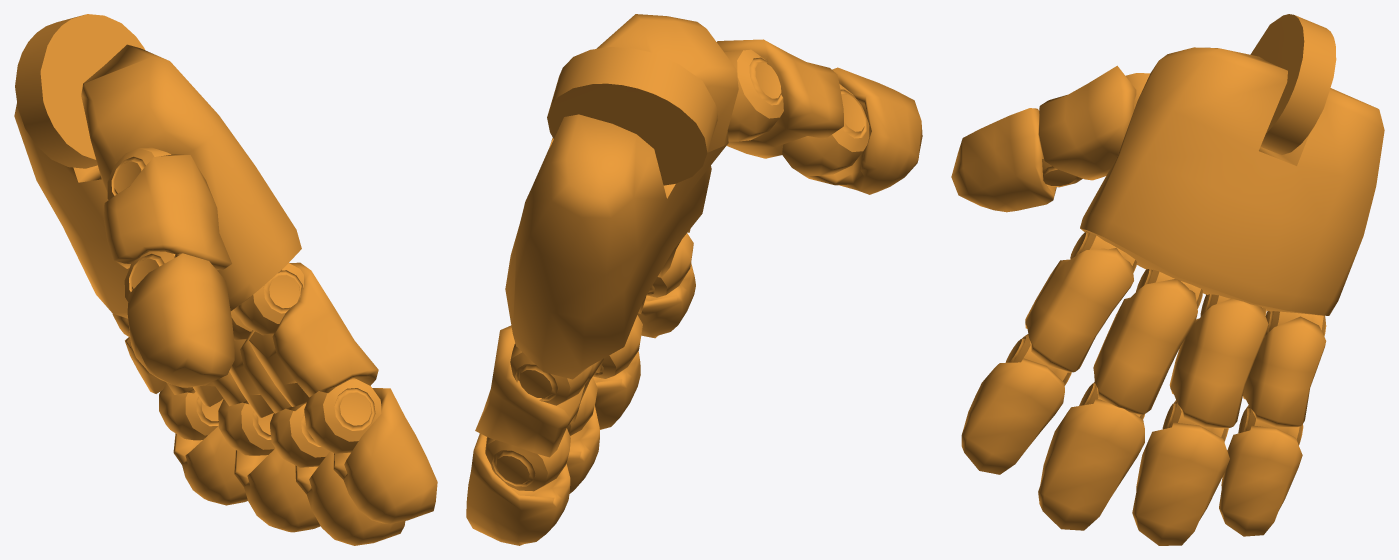
Rendered from handL.fbx.
3 renders of one model, left to right at view 1: azimuth 30°, elevation 25°; view 2: azimuth 150°, elevation 25°; view 3: azimuth 270°, elevation 25°, orthographic. The views are drawn at different scales.
Visible parts, largest first — view 1: matte_0.007, matte_22, matte_12, matte_21, matte_11, matte_42, matte_32, matte_52, matte_31, matte_41, matte_51; view 2: matte_0.007, matte_11, matte_12, matte_52, matte_51, matte_22, matte_32, matte_42; view 3: matte_0.007, matte_32, matte_31, matte_42, matte_21, matte_41, matte_22, matte_12, matte_11, matte_52, matte_51.
Boxes of the visible parts, x1=… form: matte_0.007: x1=14, y1=14, x2=301, y2=318; matte_22: x1=304, y1=378, x2=437, y2=523; matte_12: x1=124, y1=251, x2=234, y2=387; matte_21: x1=234, y1=262, x2=378, y2=406; matte_11: x1=103, y1=147, x2=231, y2=270; matte_42: x1=218, y1=399, x2=320, y2=532; matte_32: x1=270, y1=403, x2=405, y2=545; matte_52: x1=159, y1=384, x2=247, y2=505; matte_31: x1=229, y1=309, x2=306, y2=417; matte_41: x1=193, y1=371, x2=248, y2=406; matte_51: x1=112, y1=314, x2=195, y2=394; matte_0.007: x1=505, y1=14, x2=738, y2=379; matte_11: x1=717, y1=39, x2=843, y2=158; matte_12: x1=782, y1=67, x2=922, y2=194; matte_52: x1=466, y1=428, x2=570, y2=545; matte_51: x1=475, y1=325, x2=592, y2=457; matte_22: x1=637, y1=233, x2=695, y2=338; matte_32: x1=592, y1=315, x2=642, y2=429; matte_42: x1=566, y1=377, x2=599, y2=493; matte_0.007: x1=1080, y1=14, x2=1384, y2=315; matte_32: x1=1038, y1=382, x2=1144, y2=530; matte_31: x1=1093, y1=269, x2=1202, y2=415; matte_42: x1=1132, y1=400, x2=1229, y2=545; matte_21: x1=1025, y1=231, x2=1136, y2=372; matte_41: x1=1169, y1=294, x2=1268, y2=428; matte_22: x1=961, y1=334, x2=1071, y2=474; matte_12: x1=951, y1=108, x2=1082, y2=212; matte_11: x1=1038, y1=65, x2=1150, y2=180; matte_52: x1=1219, y1=405, x2=1303, y2=536; matte_51: x1=1243, y1=311, x2=1326, y2=427.
Size of the model in its own units: 466 by 661 by 756.
